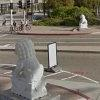Statue: (4, 31, 49, 99)
